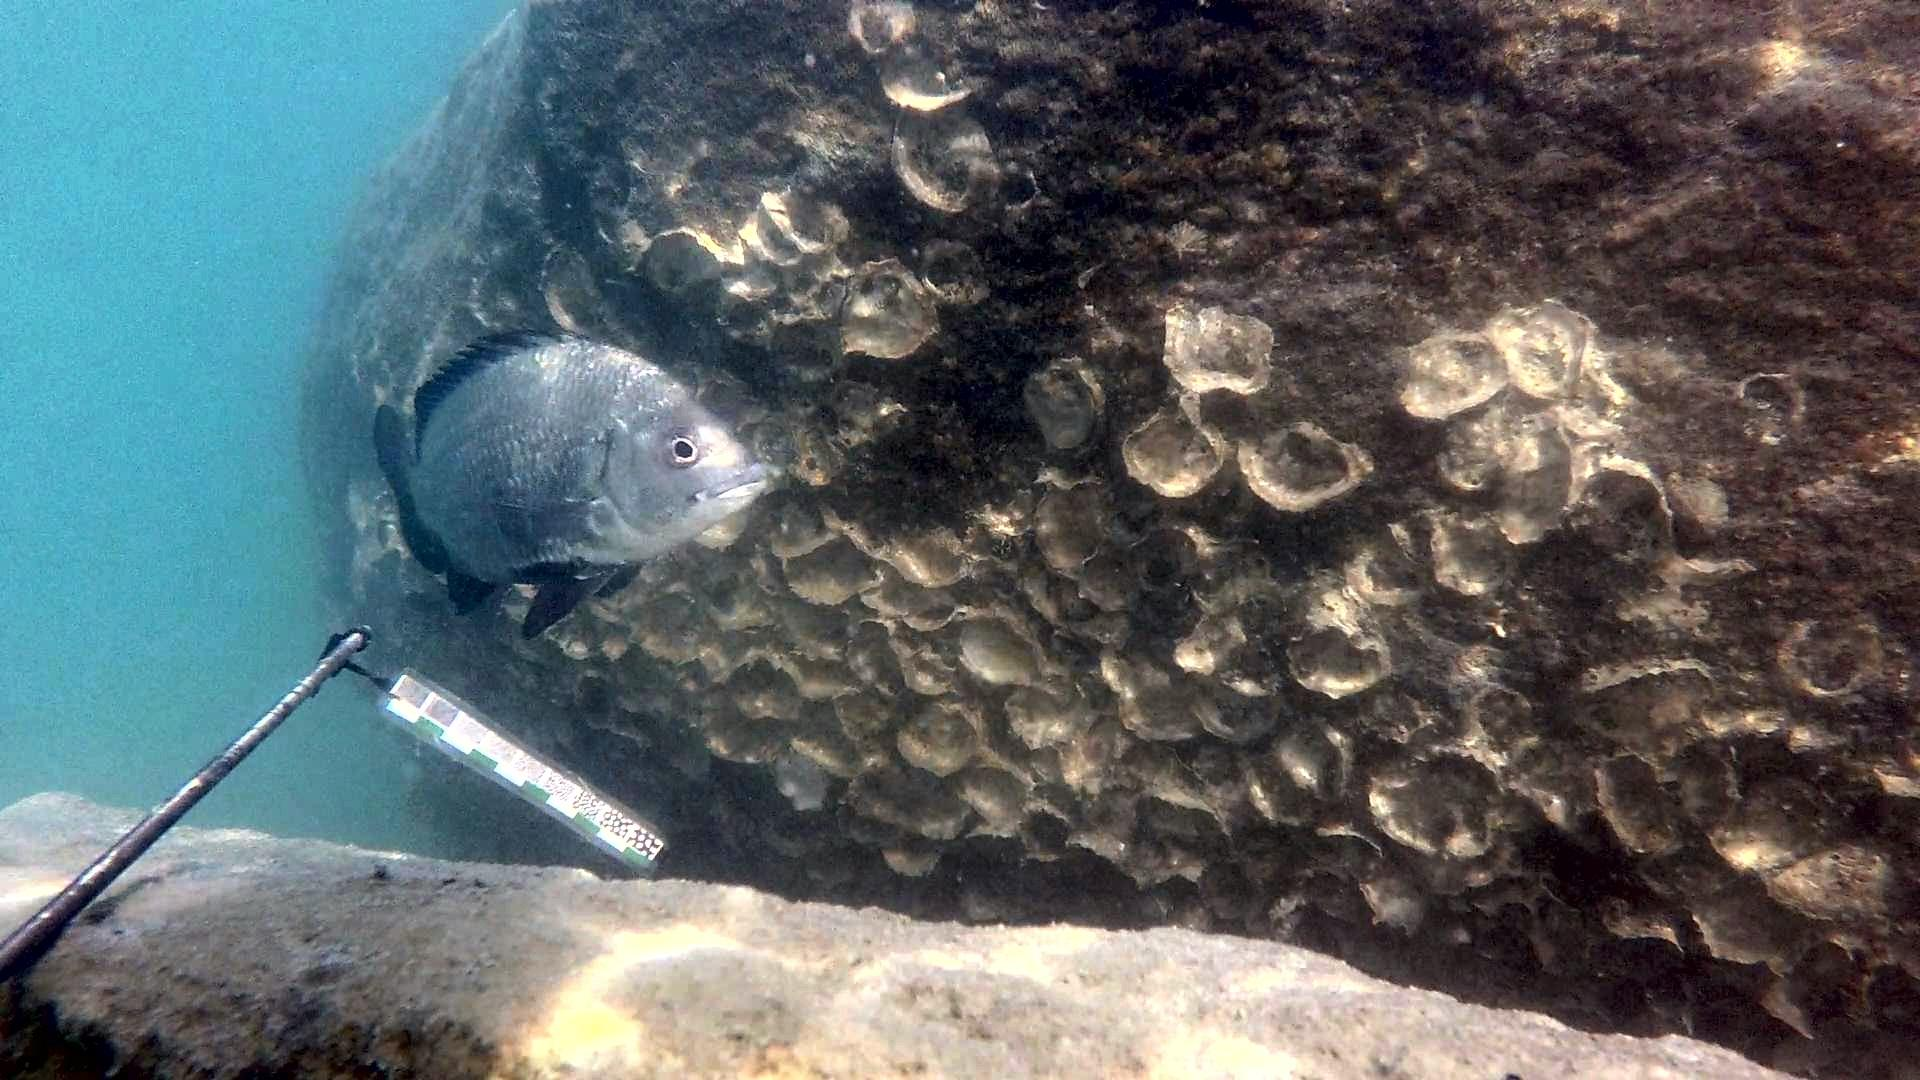acanthopagrus palmaris: (357, 320, 783, 646)
